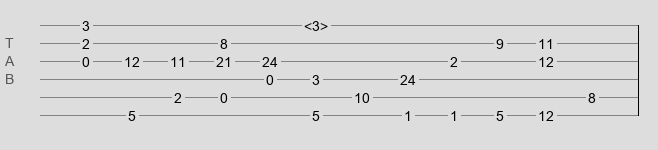0: (82, 54, 90, 64), (220, 90, 228, 100), (266, 72, 274, 82)
1: (404, 108, 412, 118), (450, 108, 458, 118)
10: (354, 90, 370, 100)
11: (170, 54, 186, 64), (538, 36, 554, 46)
12: (124, 54, 140, 64), (538, 108, 554, 118), (538, 54, 554, 64)
2: (82, 36, 90, 46), (174, 90, 182, 100), (450, 54, 458, 64)
21: (216, 54, 232, 64)
24: (262, 54, 278, 64), (400, 72, 416, 82)
3: (82, 18, 90, 28), (312, 72, 320, 82)
5: (128, 108, 136, 118), (312, 108, 320, 118), (496, 108, 504, 118)
8: (220, 36, 228, 46), (588, 90, 596, 100)
9: (496, 36, 504, 46)
harmonic: (304, 18, 328, 28)
